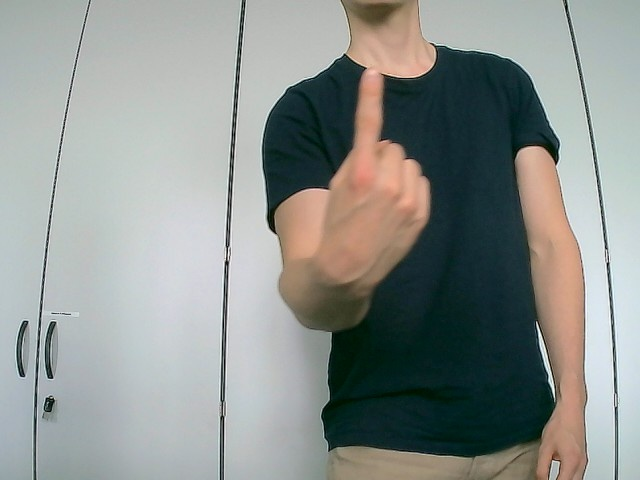no_gesture: (534, 386, 593, 480)
up: (312, 66, 432, 291)
